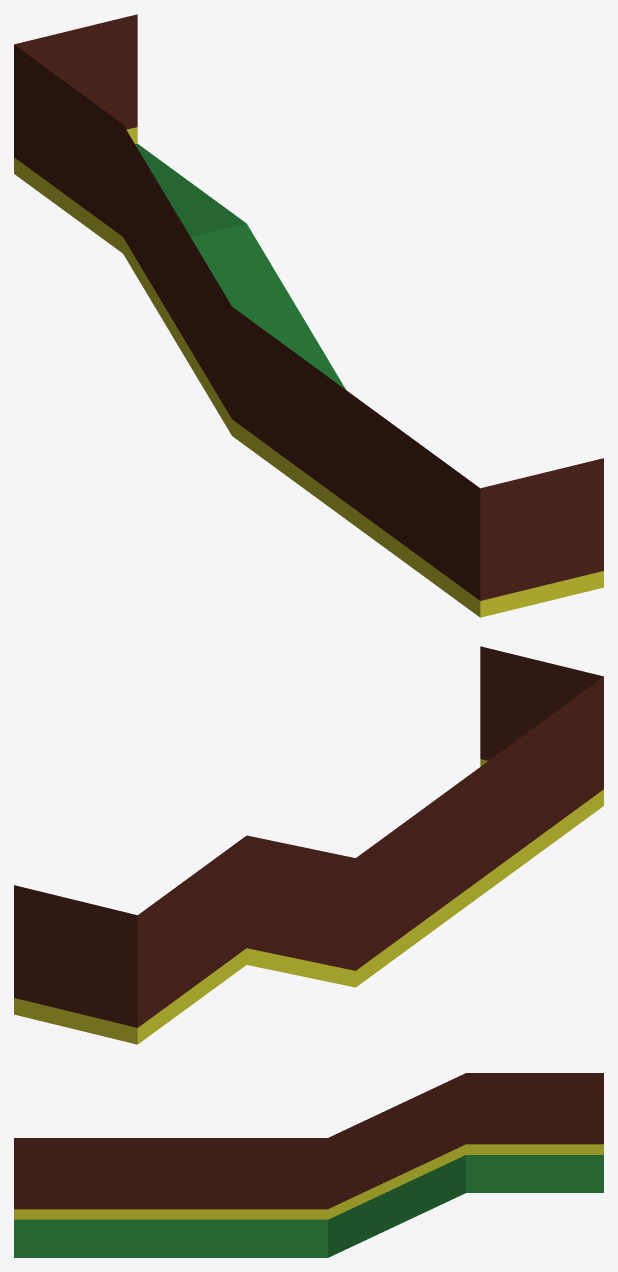
File: temp hallw.dae
3 renders of one model, top to bottom at view 1: azimuth 30°, elevation 25°; view 2: azimuth 150°, elevation 25°; view 3: azimuth 270°, elevation 25°, orthographic. The views are drawn at different scales.
Visible parts, largest first — view 1: Cube; view 2: Cube; view 3: Cube.
Part boxes in pixels (x1=…): Cube: x1=14, y1=14, x2=603, y2=617; Cube: x1=14, y1=646, x2=603, y2=1044; Cube: x1=14, y1=1073, x2=603, y2=1257.
Size of the model in its own units: 2 by 13.06 by 3.58.
